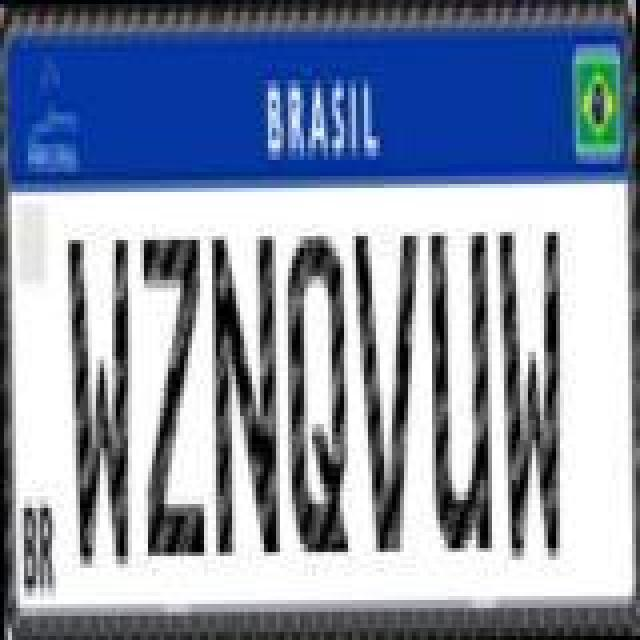N: (212, 230, 284, 562)
Q: (282, 228, 350, 556)
U: (426, 226, 494, 558)
V: (352, 228, 424, 556)
W: (64, 234, 136, 574), (492, 224, 564, 560)
Z: (142, 232, 210, 560)
